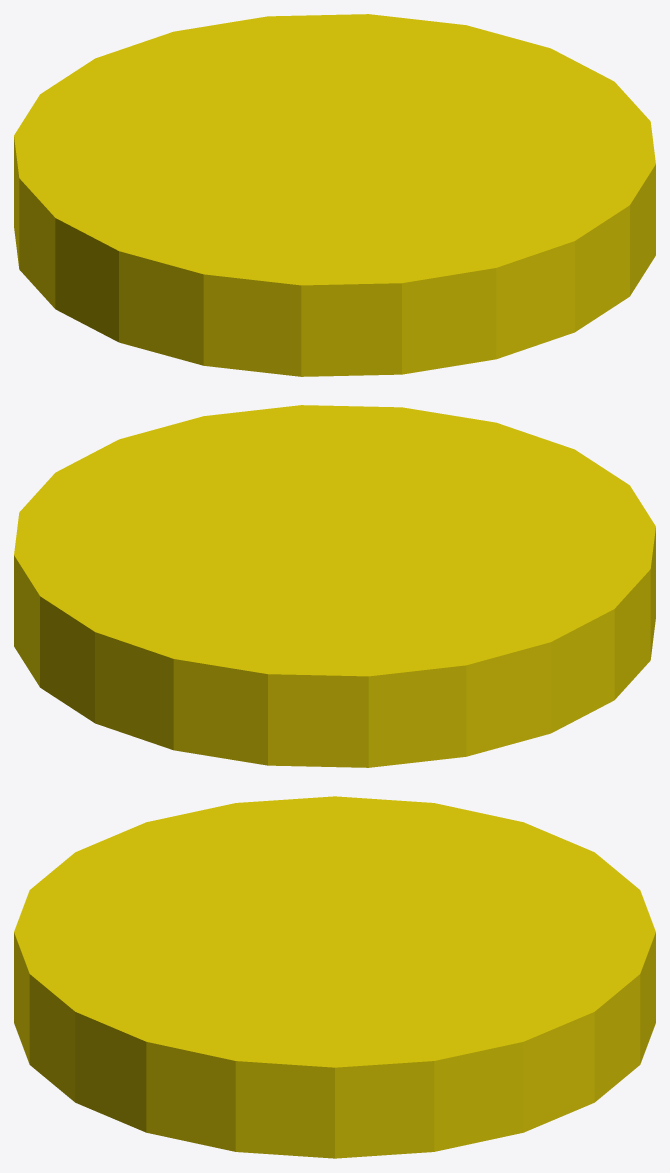
Rendered from COLLIDER_COIN.fbx.
3 renders of one model, top to bottom at view 1: azimuth 30°, elevation 25°; view 2: azimuth 150°, elevation 25°; view 3: azimuth 270°, elevation 25°, orthographic.
Parts seen in each view (by area): view 1: COLLIDER_COIN; view 2: COLLIDER_COIN; view 3: COLLIDER_COIN.
Boxes of the visible parts, x1,y1,x2,y2 form: COLLIDER_COIN: [14, 14, 655, 376]; COLLIDER_COIN: [14, 405, 655, 767]; COLLIDER_COIN: [14, 796, 655, 1158].
Size of the model in its own units: 88.65 by 13.86 by 88.65.
